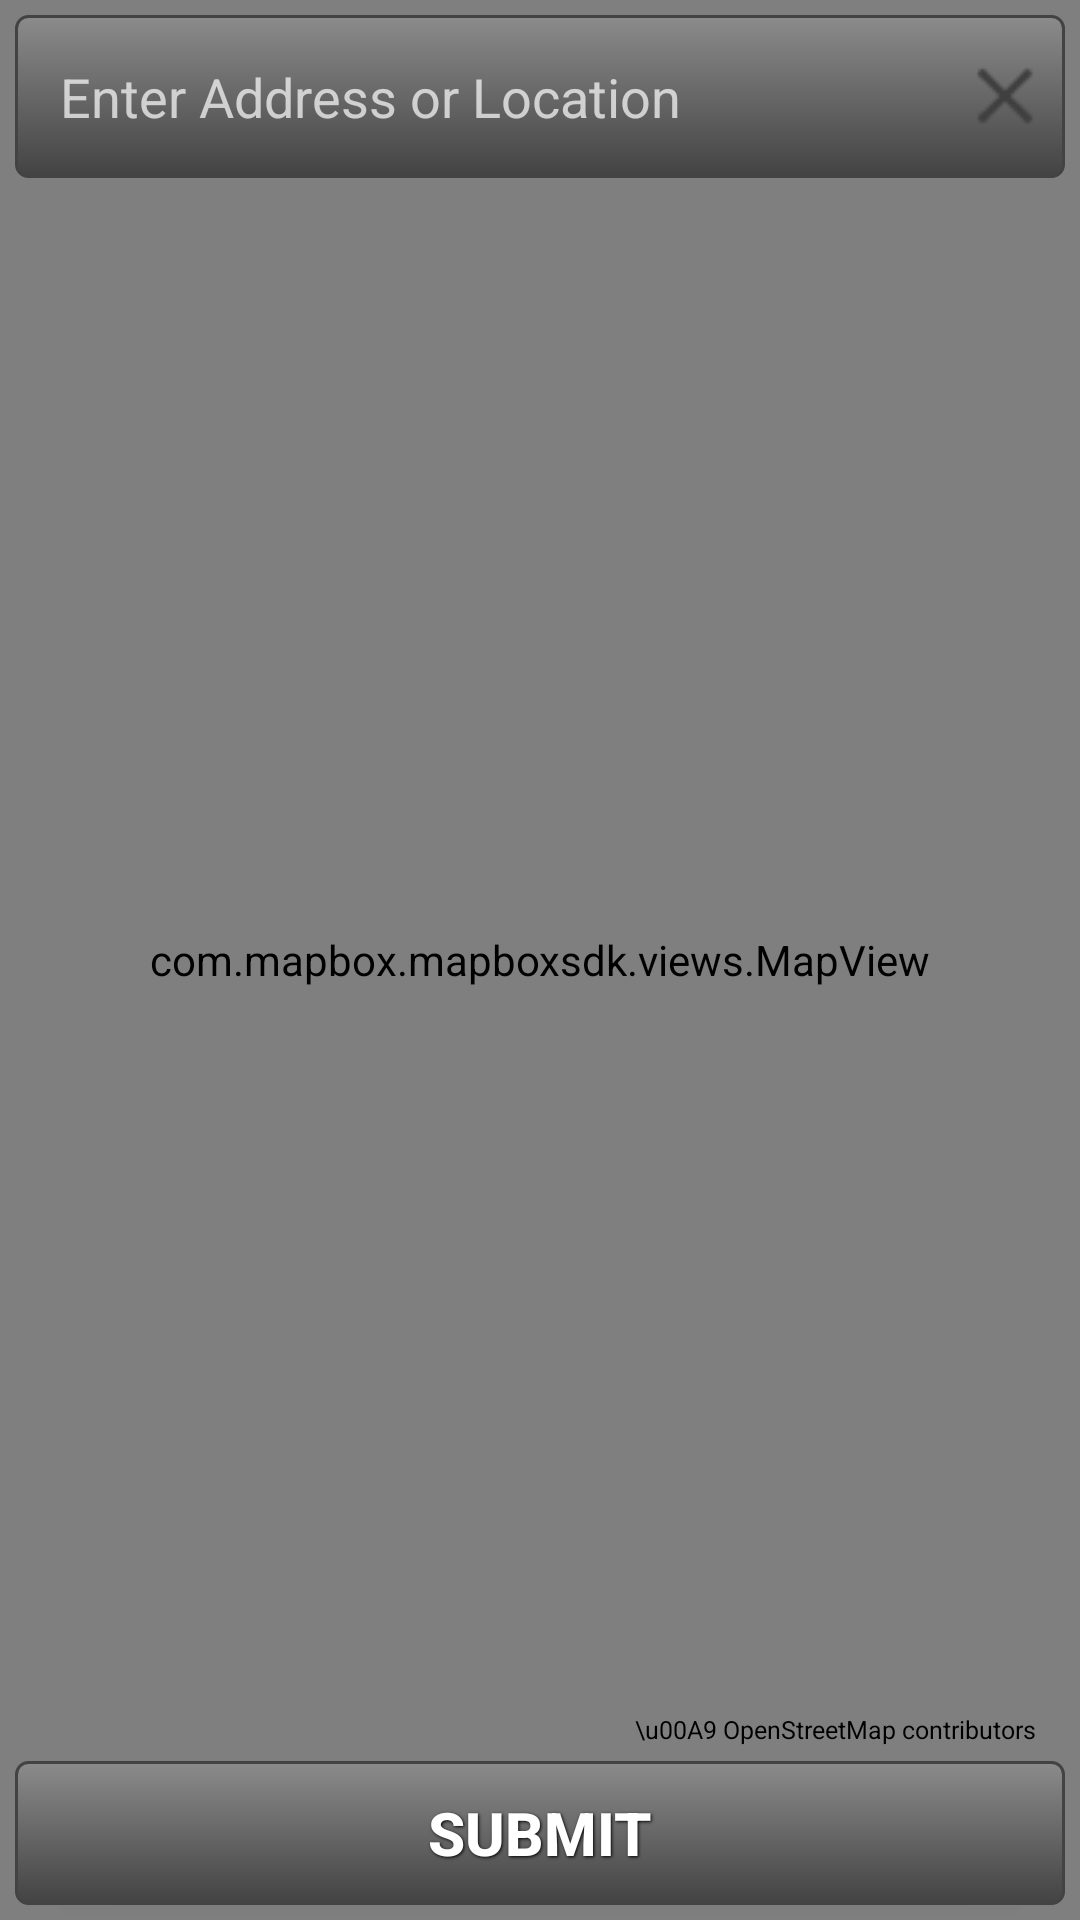

Where icons sit on this 1080px×1920px app screen, as [x1=x1, y1=y1, x2=x2, y2=y2]:
clear text: [x1=945, y1=36, x2=1065, y2=156]
